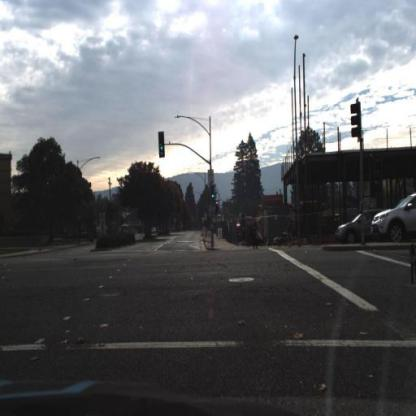biker: (394, 202, 416, 366)
car: (373, 190, 416, 247), (335, 206, 380, 247)
pedestrian: (285, 214, 296, 250), (251, 218, 260, 253)
trafficLight-Green: (158, 132, 167, 161), (211, 184, 216, 202)
